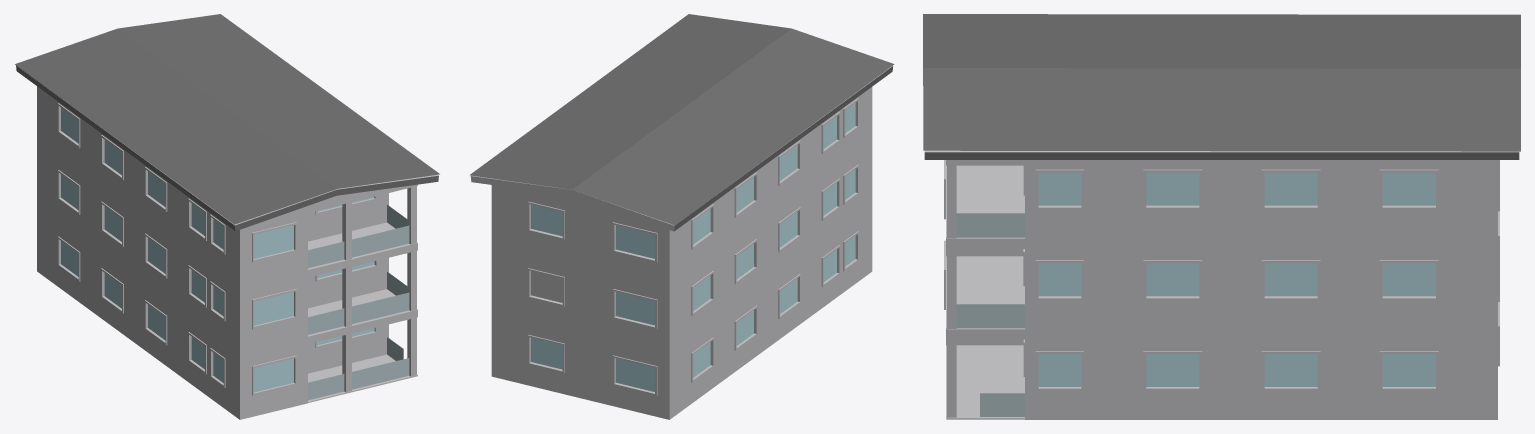
Rendered from fancyAppartment.fbx.
3 renders of one model, left to right at view 1: azimuth 30°, elevation 25°; view 2: azimuth 150°, elevation 25°; view 3: azimuth 270°, elevation 25°, orthographic. The views are drawn at different scales.
Parts seen in each view (by area): view 1: TEST; view 2: TEST; view 3: TEST.
Boxes of the visible parts, x1,y1,x2,y2 form: TEST: (15,14,439,419); TEST: (469,14,894,419); TEST: (923,14,1520,419).
Bounding box in the file's own units: 1190 × 1188 × 2198.
